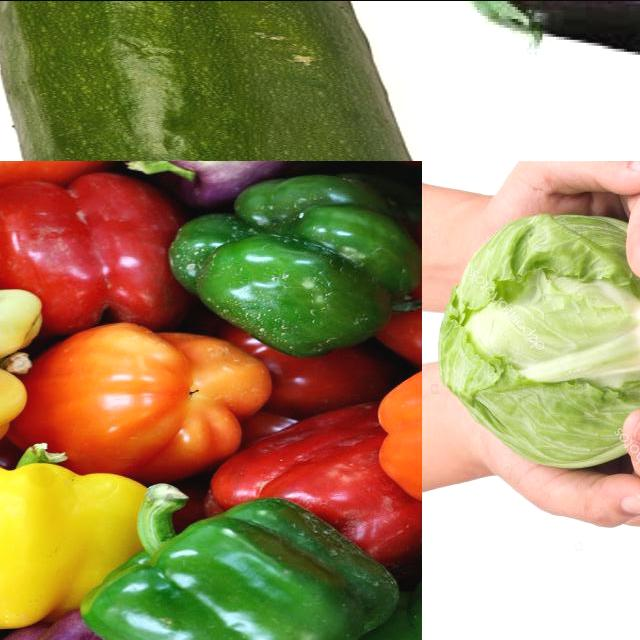bell_pepper: (74, 499, 395, 640), (173, 168, 410, 358), (24, 334, 272, 458), (1, 171, 177, 333), (1, 445, 149, 629)
cabbage: (430, 205, 640, 471)
eggplant: (423, 1, 640, 76)
zucchini: (1, 1, 423, 161)
